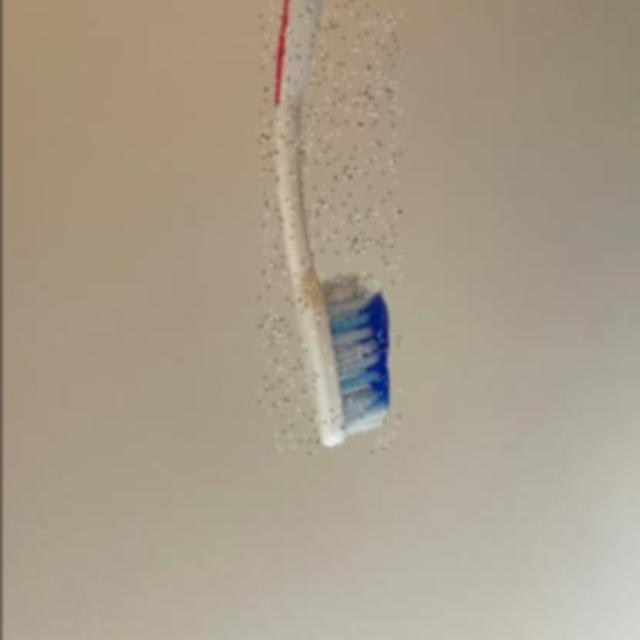toothbrush: (256, 0, 399, 456)
